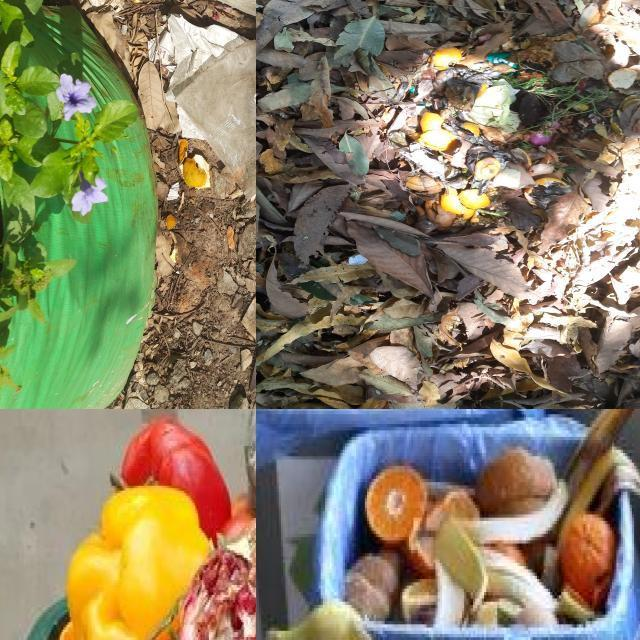Background: (0, 121, 156, 409), (26, 8, 132, 105)
Garbage: (256, 0, 640, 409), (84, 0, 256, 405), (264, 448, 596, 640), (25, 409, 256, 640), (561, 451, 640, 587), (565, 409, 634, 496), (561, 514, 617, 611)
Plastic_Bag: (167, 14, 256, 199)
Plastic_wraper: (486, 53, 514, 66), (347, 255, 369, 265)
